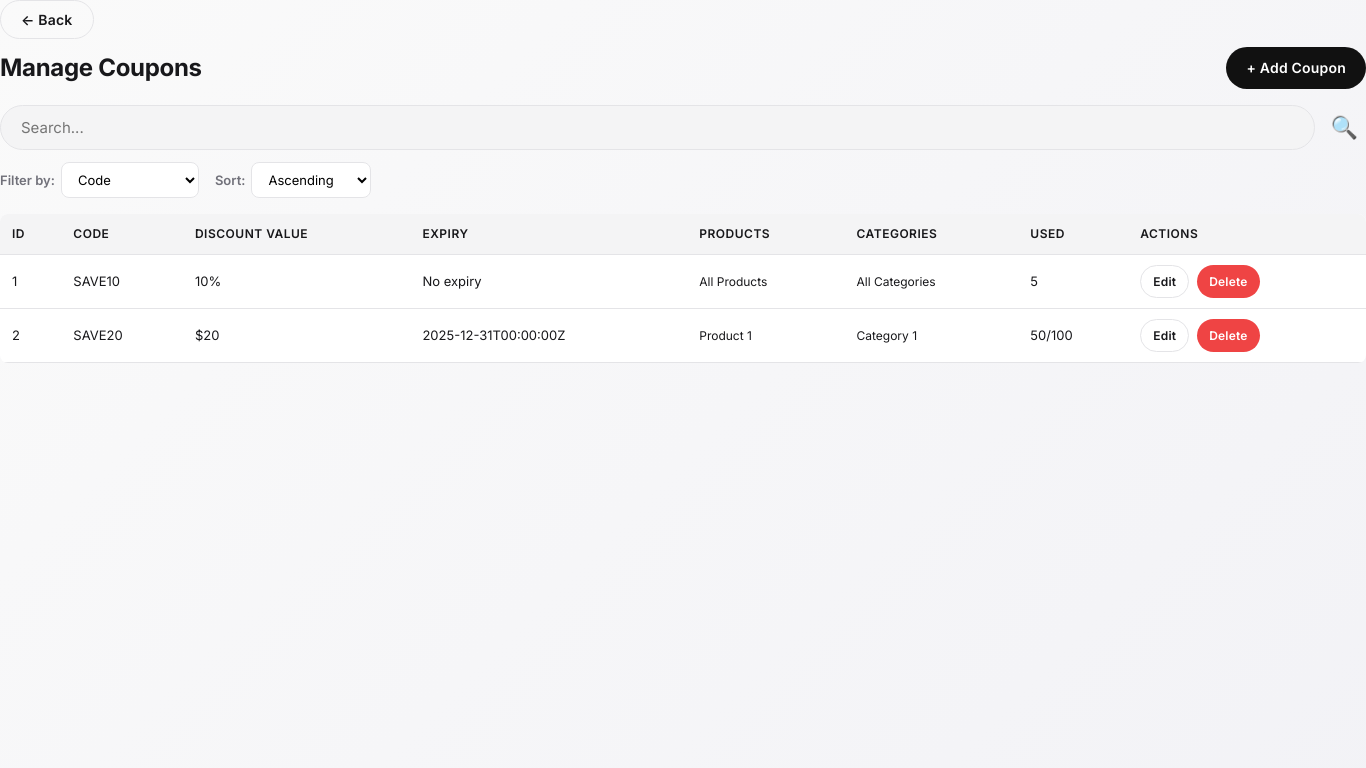
Test: AdminCoupons › Delete › should show error when delete fails
Click the button "Delete" in the row of "SAVE10" at coordinates (1228, 281), box [1197, 265, 1260, 298]
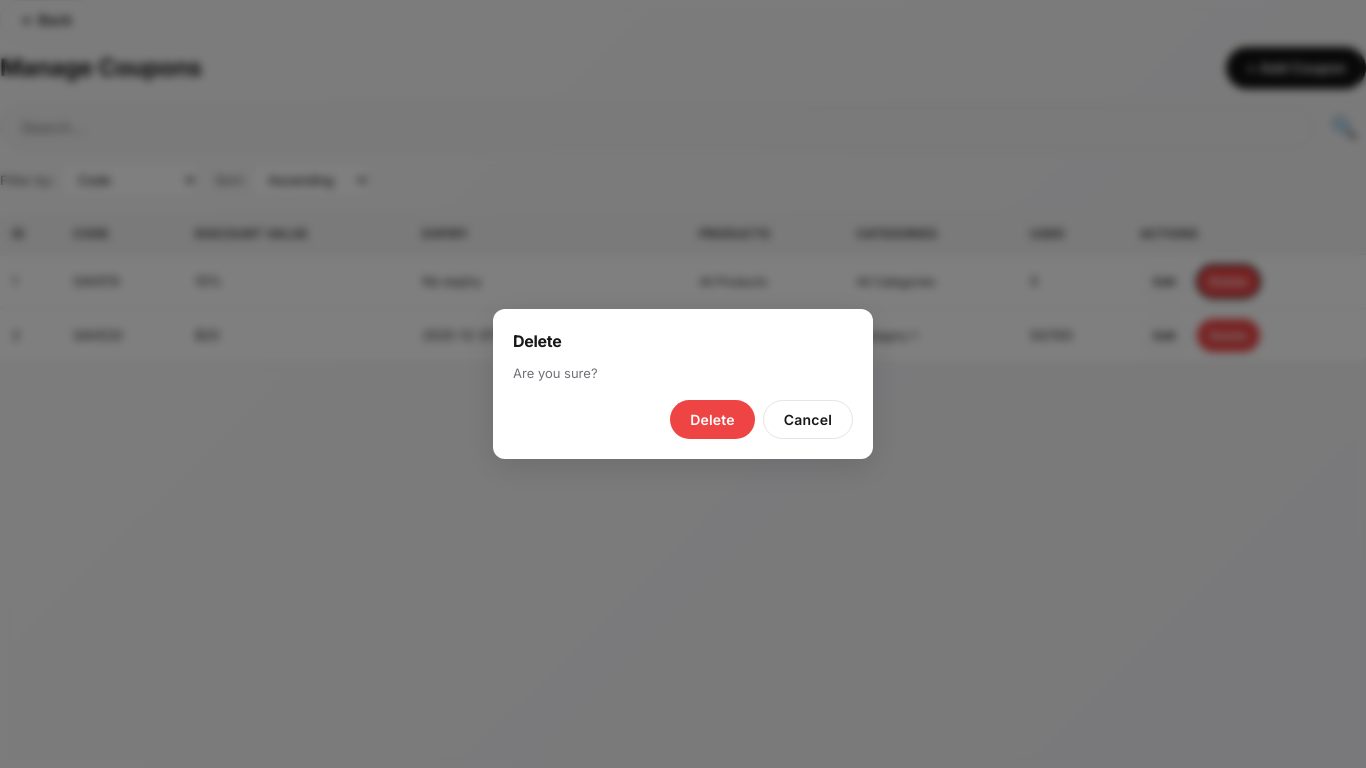
Click the button with class "btn-danger" showing "Delete" at coordinates (712, 419), box [670, 400, 755, 439]
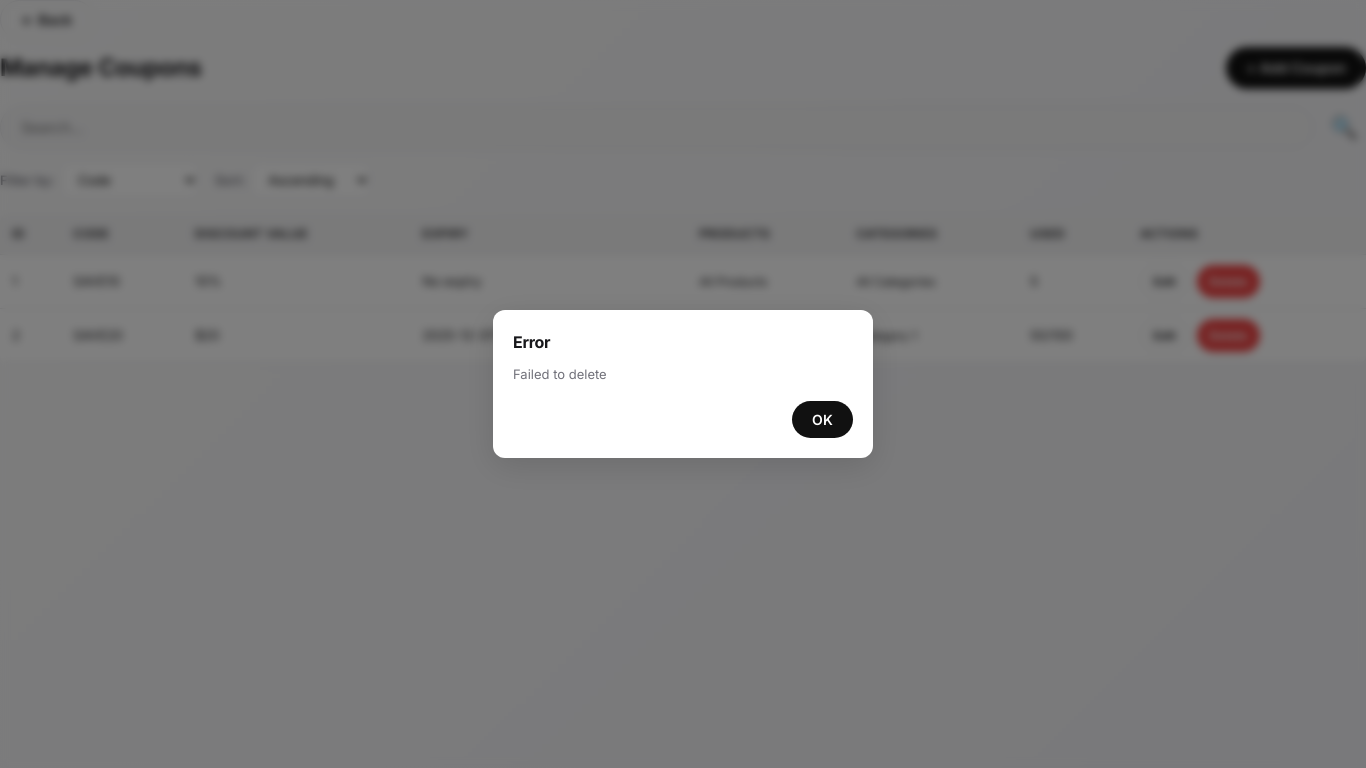
Result: the text "Failed to delete" is shown at [513, 366, 607, 382]
